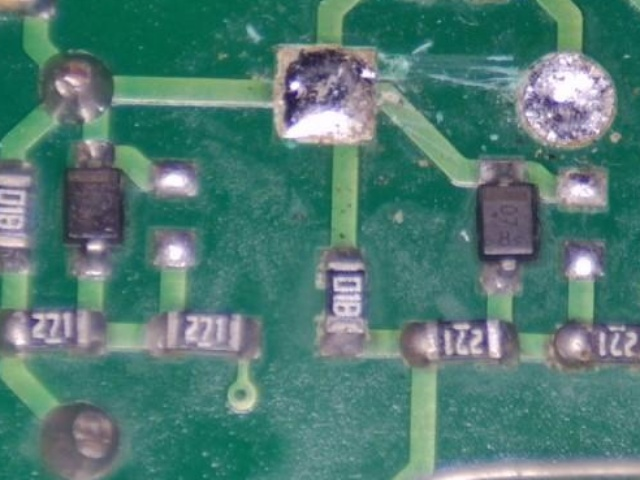pcb_defect: (274, 45, 376, 142), (522, 55, 611, 142)
